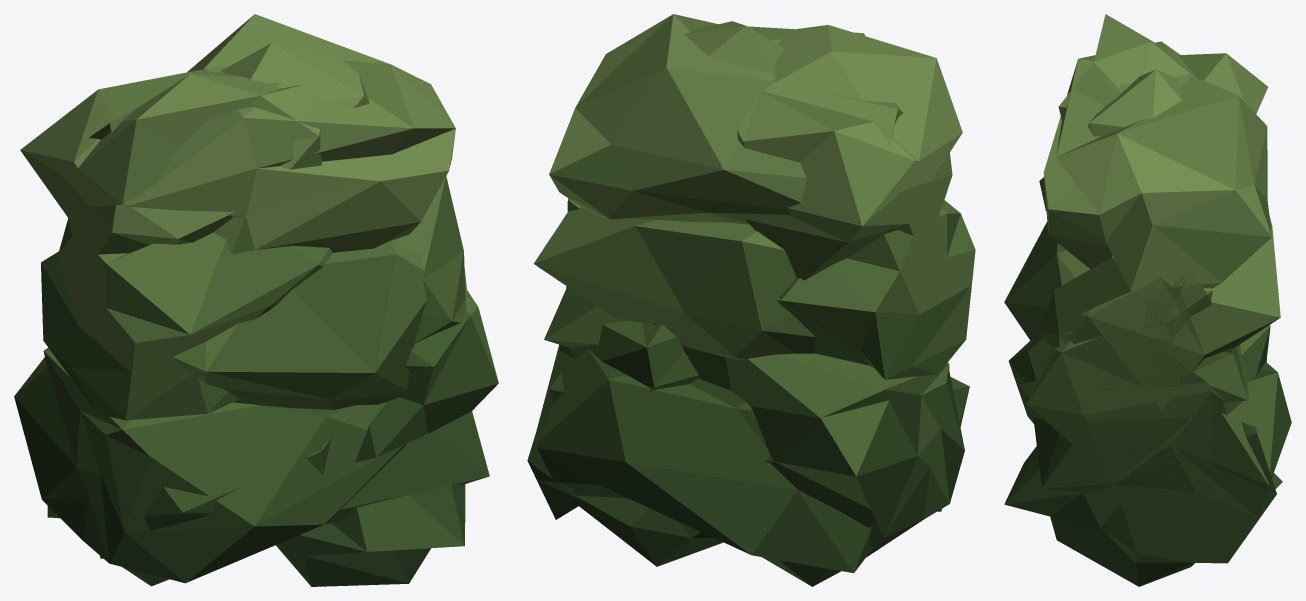
File: lwf_hedge_gate_end_v1.glb
The picture shows the model from 3 angles, left to right: view 1: azimuth 30°, elevation 25°; view 2: azimuth 150°, elevation 25°; view 3: azimuth 270°, elevation 25°; orthographic projection. The views are drawn at different scales.
Parts seen in each view (by area): view 1: lwf_hedge_gate_end_v1; view 2: lwf_hedge_gate_end_v1; view 3: lwf_hedge_gate_end_v1.
Boxes of the visible parts, bbox=[...] form: lwf_hedge_gate_end_v1: bbox=[14, 14, 498, 586]; lwf_hedge_gate_end_v1: bbox=[527, 14, 975, 586]; lwf_hedge_gate_end_v1: bbox=[1004, 14, 1291, 586].
Bounding box in the file's own units: 1.1 × 1.73 × 0.9628.
1 material, 1 textured.
